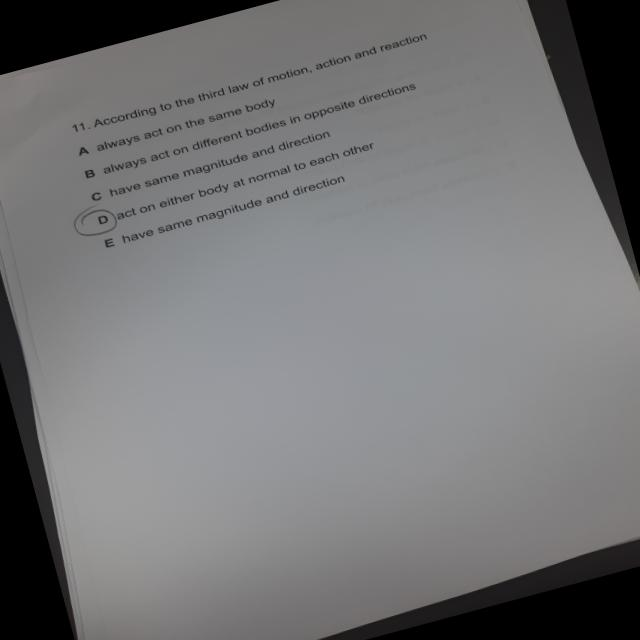D: (67, 201, 128, 243)
